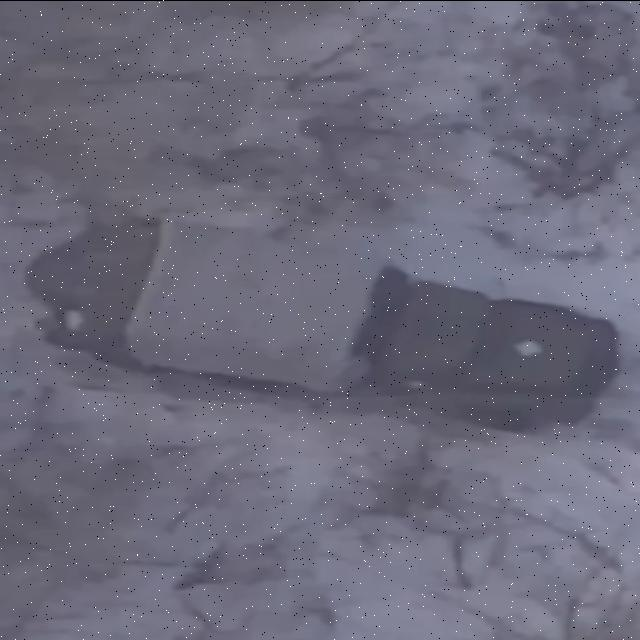TRUCK: (61, 218, 610, 412)
